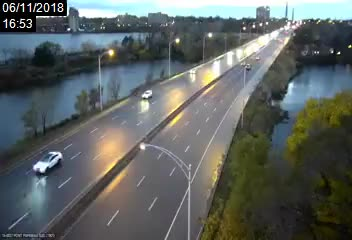personal_car: (32, 151, 64, 175), (141, 87, 154, 100), (190, 66, 198, 74)
